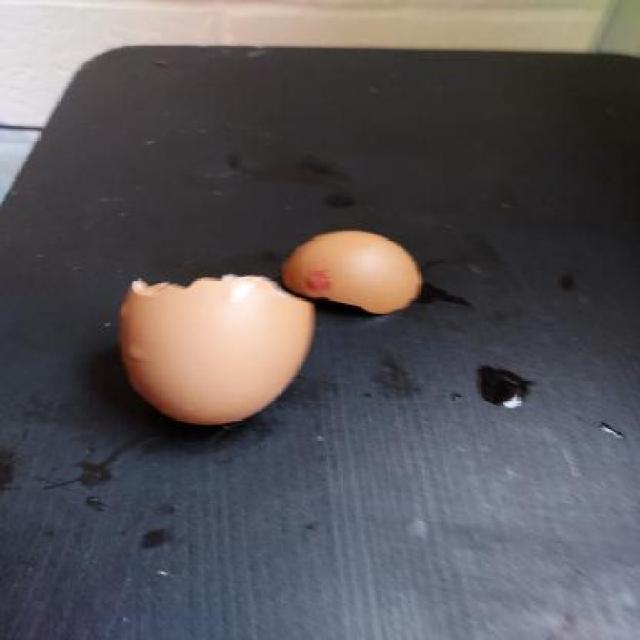biodegradable: (118, 276, 311, 429), (282, 230, 430, 318)
